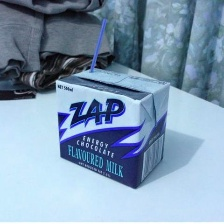carton: (51, 66, 173, 191)
drinking_straw: (81, 16, 116, 73)
